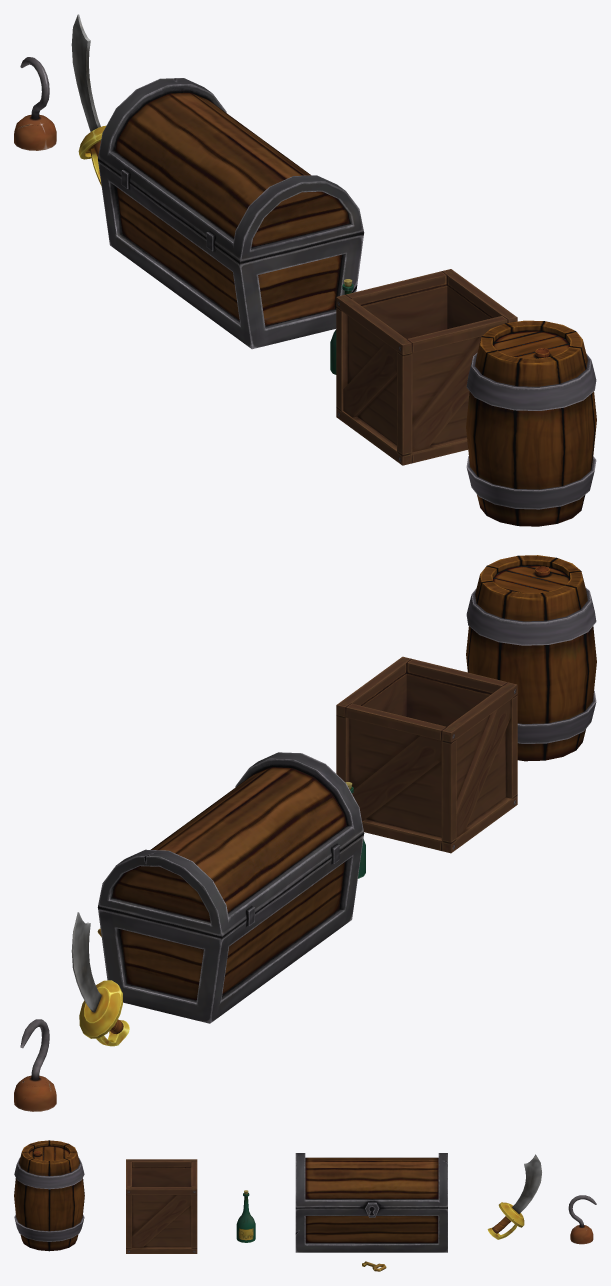
The model's file is pirate_asset_pack.glb.
3 renders of one model, top to bottom at view 1: azimuth 30°, elevation 25°; view 2: azimuth 150°, elevation 25°; view 3: azimuth 270°, elevation 25°, orthographic. The views are drawn at different scales.
Parts seen in each view (by area): view 1: chest_2, box_1, barrel_0, sabreSword_6, hook_3; view 2: chest_2, box_1, barrel_0, sabreSword_6, hook_3; view 3: chest_2, barrel_0, box_1, sabreSword_6, hook_3, rum_5.
Boxes of the visible parts, x1,y1,x2,y2 form: chest_2: (98, 78, 364, 349); box_1: (336, 269, 517, 465); barrel_0: (466, 320, 596, 526); sabreSword_6: (71, 14, 105, 185); hook_3: (14, 57, 56, 150); chest_2: (97, 752, 364, 1023); box_1: (336, 656, 517, 853); barrel_0: (466, 555, 596, 761); sabreSword_6: (71, 912, 129, 1046); hook_3: (14, 1019, 56, 1111); chest_2: (295, 1153, 447, 1252); barrel_0: (14, 1140, 84, 1251); box_1: (126, 1159, 197, 1253); sabreSword_6: (487, 1154, 541, 1239); hook_3: (568, 1195, 596, 1244); rum_5: (236, 1190, 255, 1242).
Size of the model in its own units: 6.09 by 5 by 30.25.
7 materials, 7 textured.
